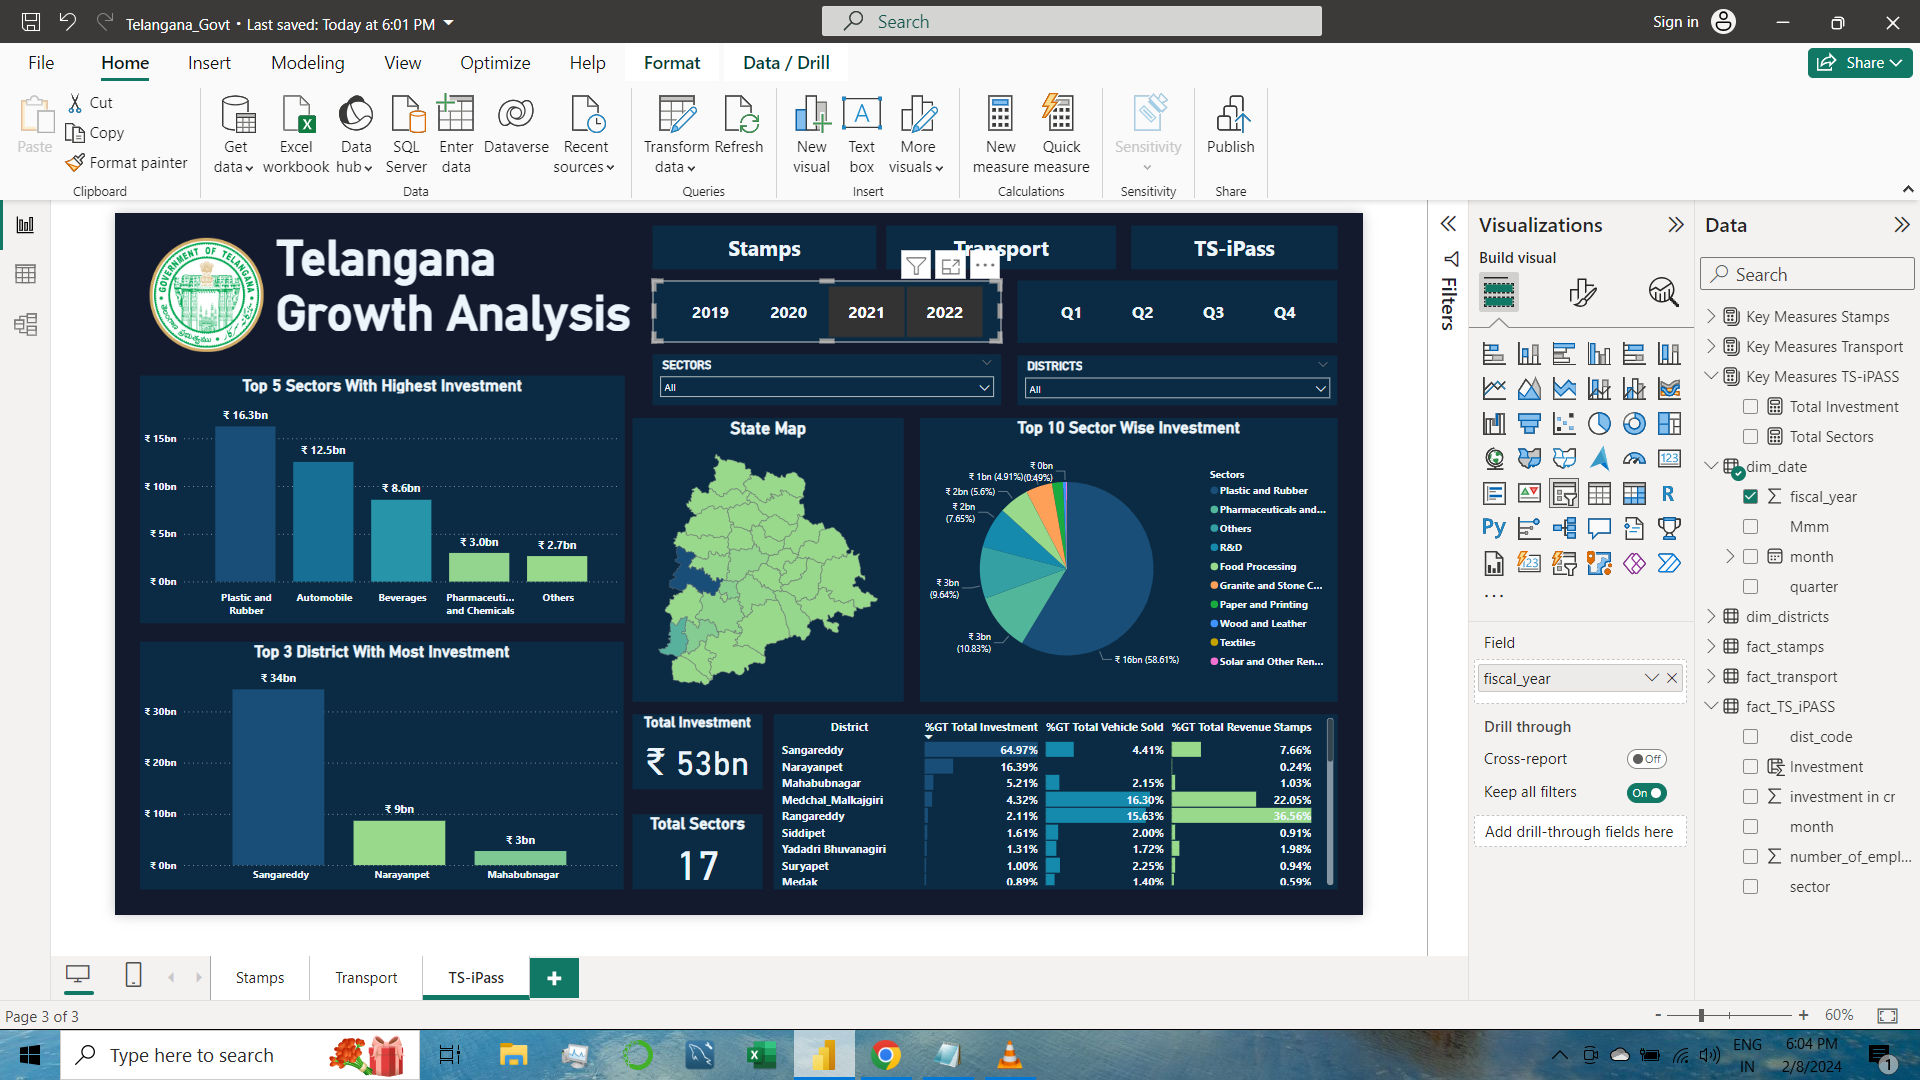

This screenshot's page, from the dashboard's own definition file:
{"tool":"powerbi","page":{"name":"TS-iPass","canvas":[1664,936],"ordinal":2},"visuals":[{"type":"slicer","fields":{"Values":["dim_date.fiscal_year"]},"box":[716.7,90,465,83.3],"z":0},{"type":"slicer","fields":{"Values":["dim_date.quarter"]},"box":[1203.3,90,426.7,83.3],"z":1000},{"type":"clusteredColumnChart","title":"Top 5 Sectors With Highest Investment","fields":{"Y":["Key Measures TS-iPASS.Total Investment"],"Category":["fact_TS_iPASS.sector"]},"box":[34,216,646,330],"z":2000},{"type":"clusteredColumnChart","title":"Top 3 District With Most Investment","fields":{"Category":["dim_districts.district"],"Y":["Key Measures TS-iPASS.Total Investment"]},"box":[33.3,571.7,645,330],"z":3000},{"type":"tableEx","title":"Investment Trend Monthly","fields":{"Values":["dim_districts.district","Key Measures TS-iPASS.Total Investment","Key Measures Transport.Total Vehicle Sold","Key Measures Stamps.Total Revenue Stamps"]},"box":[878.3,668.3,751.7,233.3],"z":4000},{"type":"shapeMap","title":"State Map","fields":{"Category":["dim_districts.district"],"Value":["Key Measures TS-iPASS.Total Investment"]},"box":[690,273.3,361.7,378.3],"z":5000},{"type":"card","title":"Total Sectors","fields":{"Values":["Key Measures TS-iPASS.Total Sectors"]},"box":[690,801.7,173.3,100],"z":6000},{"type":"card","title":"Total Investment ","fields":{"Values":["Key Measures TS-iPASS.Total Investment"]},"box":[690,668.3,173.3,100],"z":7000},{"type":"image","box":[33.3,28.3,176.7,161.7],"z":8000},{"type":"textbox","box":[210,16.7,506.7,173.3],"z":9000},{"type":"actionButton","box":[716.7,16.7,298.3,58.3],"z":10000},{"type":"actionButton","box":[1355,16.7,275,58.3],"z":11000},{"type":"actionButton","box":[1028.3,16.7,306.7,58.3],"z":12000},{"type":"slicer","fields":{"Values":["fact_TS_iPASS.sector"]},"box":[716.7,188.3,465,68.3],"z":13000},{"type":"slicer","fields":{"Values":["dim_districts.district"]},"box":[1203.3,190,426.7,66.7],"z":14000},{"type":"pieChart","title":"Top 10 Sector Wise Investment","fields":{"Category":["fact_TS_iPASS.sector"],"Y":["Key Measures TS-iPASS.Total Investment"]},"box":[1073.3,273.3,556.7,378.3],"z":15000}]}

Visuals, with their boxes on the page's 1664x936 design canvas (x1, y1, x2, y2). These are canvas units, not pixel positions in the 1920x1080 screenshot, which may show the page scaled, cropped or inside an application window:
slicer - dim_date.fiscal_year: (717,90,1182,173)
slicer - dim_date.quarter: (1203,90,1630,173)
"Top 5 Sectors With Highest Investment" clusteredColumnChart: (34,216,680,546)
"Top 3 District With Most Investment" clusteredColumnChart: (33,572,678,902)
"Investment Trend Monthly" tableEx: (878,668,1630,902)
"State Map" shapeMap: (690,273,1052,652)
"Total Sectors" card: (690,802,863,902)
"Total Investment " card: (690,668,863,768)
image: (33,28,210,190)
textbox: (210,17,717,190)
actionButton: (717,17,1015,75)
actionButton: (1355,17,1630,75)
actionButton: (1028,17,1335,75)
slicer - fact_TS_iPASS.sector: (717,188,1182,257)
slicer - dim_districts.district: (1203,190,1630,257)
"Top 10 Sector Wise Investment" pieChart: (1073,273,1630,652)
